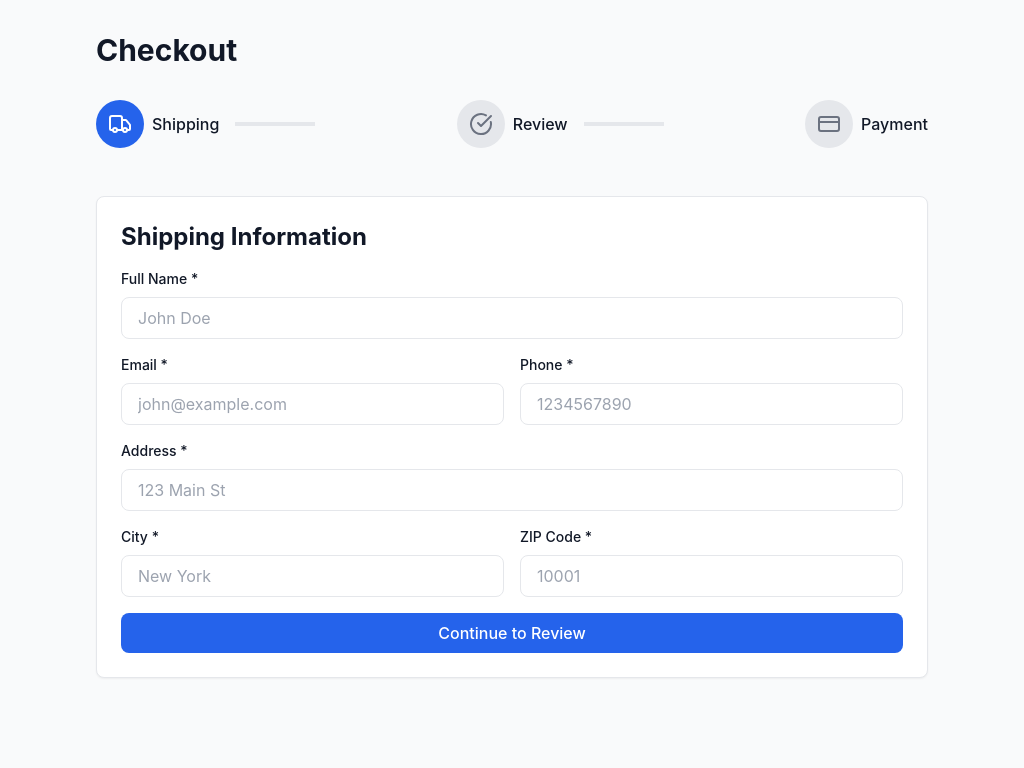
Test case: CheckoutPage › validates required fields
The width and height of the screenshot is (1024, 768).
Expected: the heading "Checkout" is shown, x1=96 y1=32 x2=237 y2=68
Click the button "Continue to Review" at (512, 633), box x1=121 y1=613 x2=903 y2=653
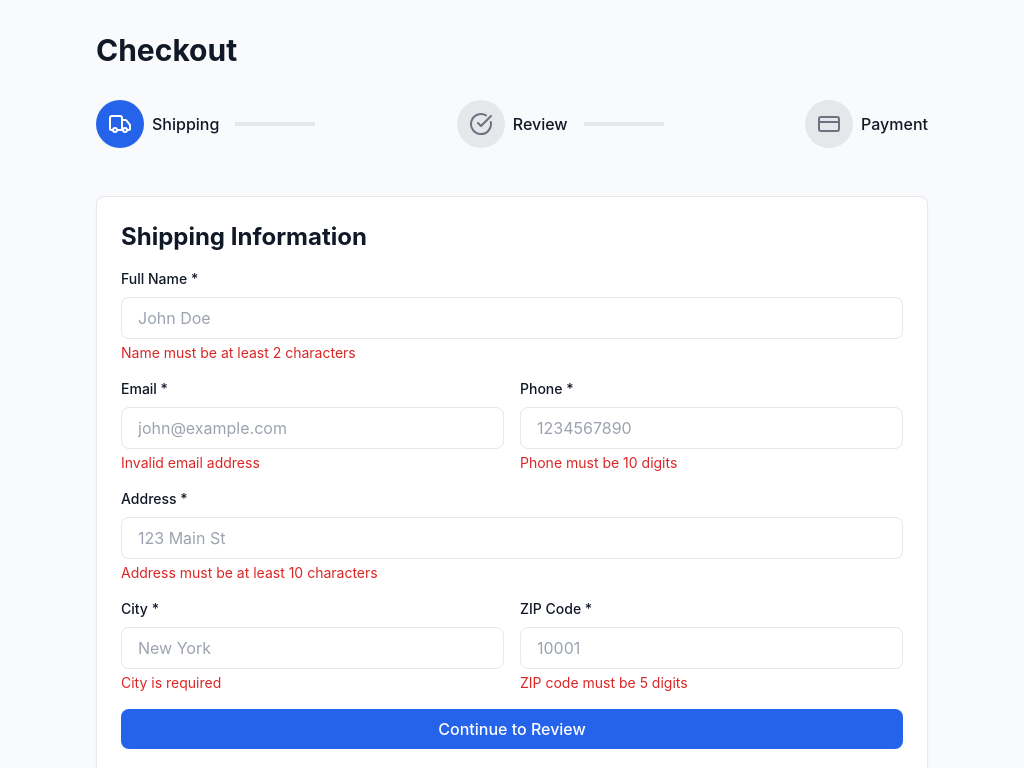
Result: the text "Name must be at least 2 characters" is shown at x1=121 y1=344 x2=356 y2=361
